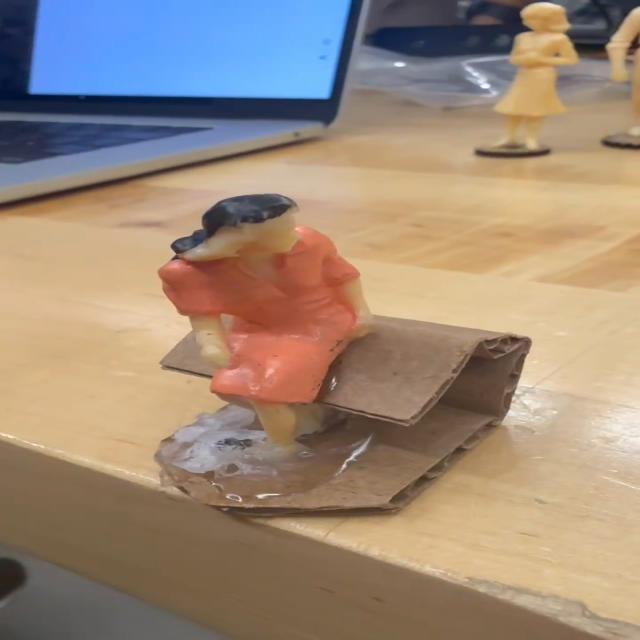Authorized: (158, 178, 382, 464)
